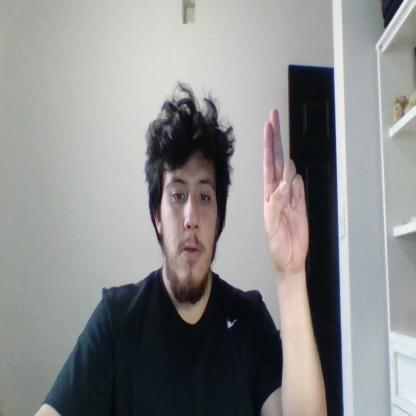U: (263, 109, 309, 268)
